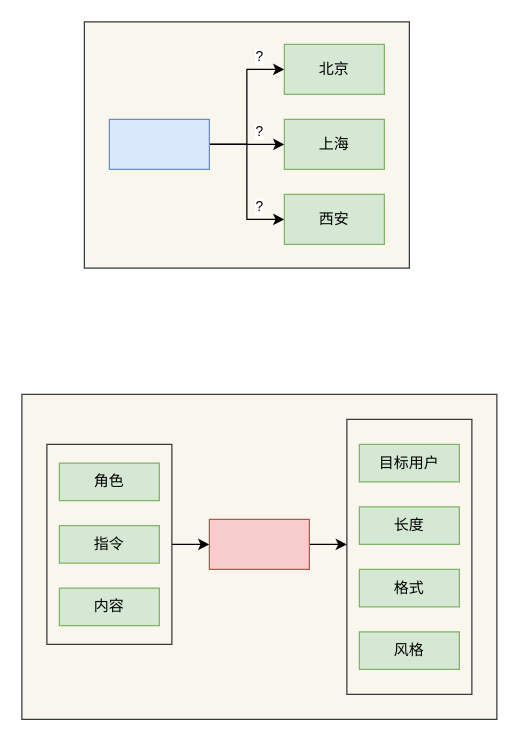
Some shapes in this 519 by 741 pixel diagram are drawn without their labels. The centre of each missing label's shape, as x and y in pixels:
大模型: pixel 258 543
我爱[XX]: pixel 158 143
